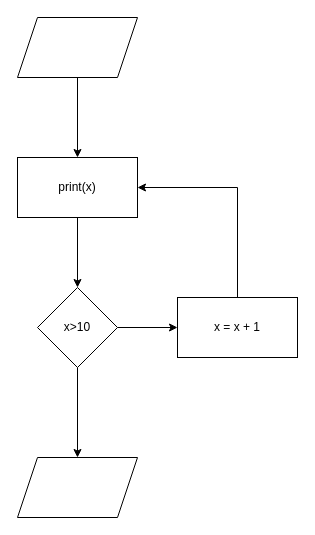
The diagram is 315 pixels wide and 535 high, and some of its shapes have lost their labels. The centre of each missing label's shape, as x and y in pixels:
return: [77,487]
x = 0: [77,47]
